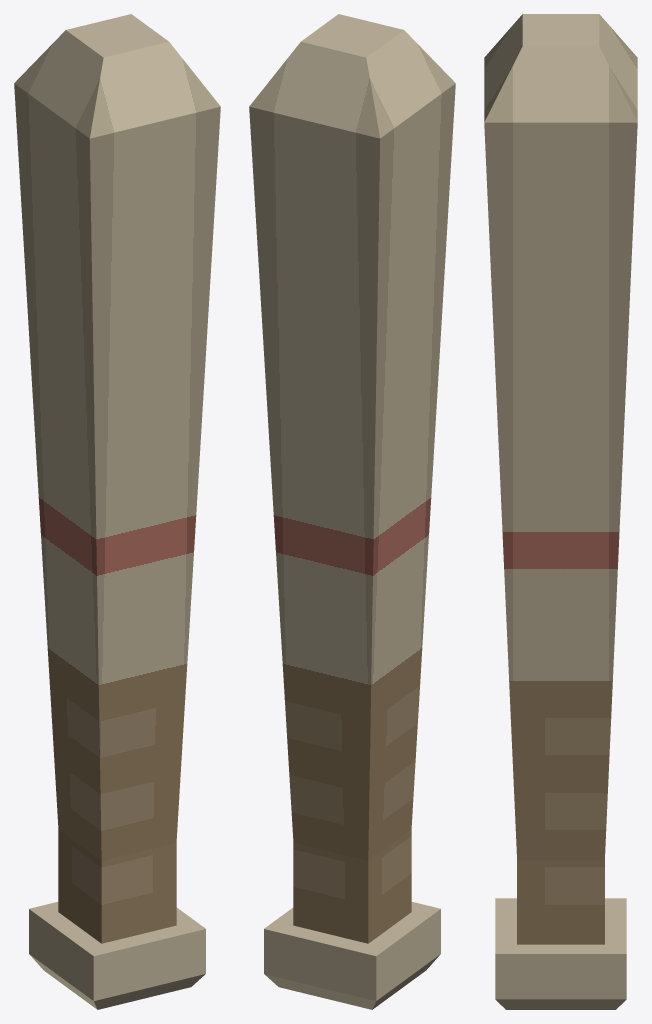
The model's file is BaseBallBat.fbx.
3 views of the same model, side by side, from view 1: azimuth 30°, elevation 25°; view 2: azimuth 150°, elevation 25°; view 3: azimuth 270°, elevation 25° (orthographic).
Visible parts, largest first — view 1: BaseballBat; view 2: BaseballBat; view 3: BaseballBat.
Boxes of the visible parts, x1=… form: BaseballBat: x1=14, y1=14, x2=220, y2=1009; BaseballBat: x1=249, y1=14, x2=455, y2=1009; BaseballBat: x1=484, y1=14, x2=637, y2=1009.
Size of the model in its own units: 15 by 103 by 15.
Materials: 1 (1 with a texture image).
